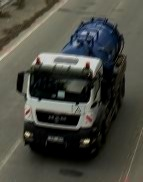truck: (15, 18, 126, 158)
